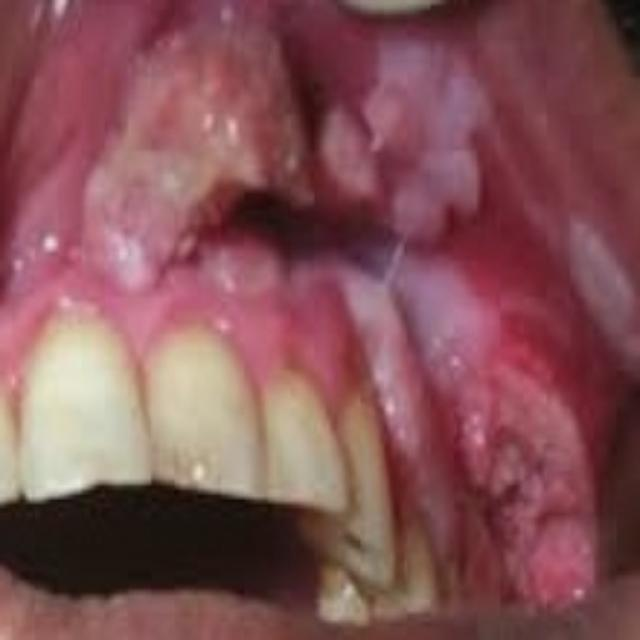cancer-detection: (72, 8, 312, 289), (410, 324, 599, 612), (312, 34, 506, 248)
processing_area: (1, 1, 636, 606)
